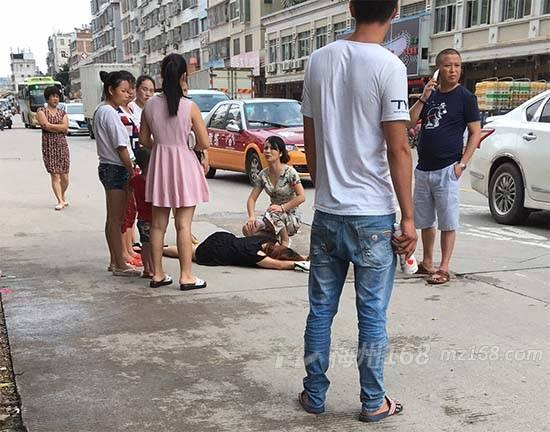Fall-Detected: (162, 213, 315, 275)
